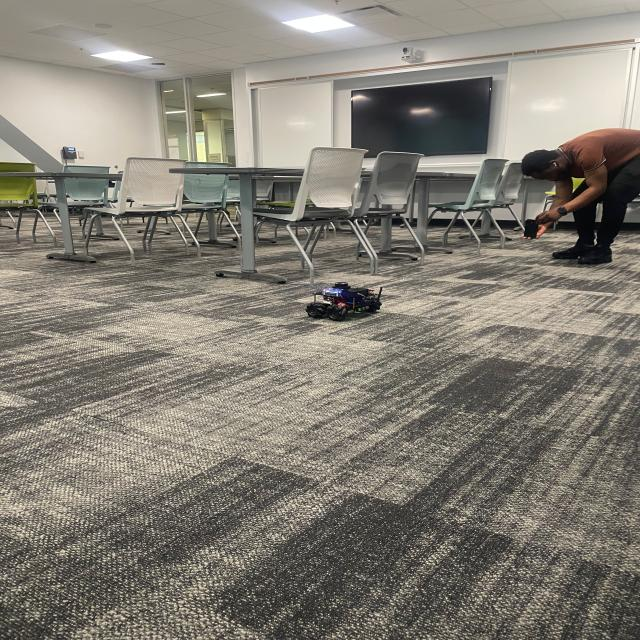ArduinoCar: (301, 278, 387, 320)
